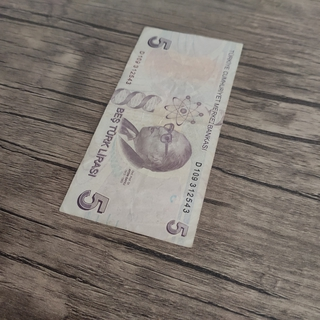5TLBack: (58, 25, 246, 249)
